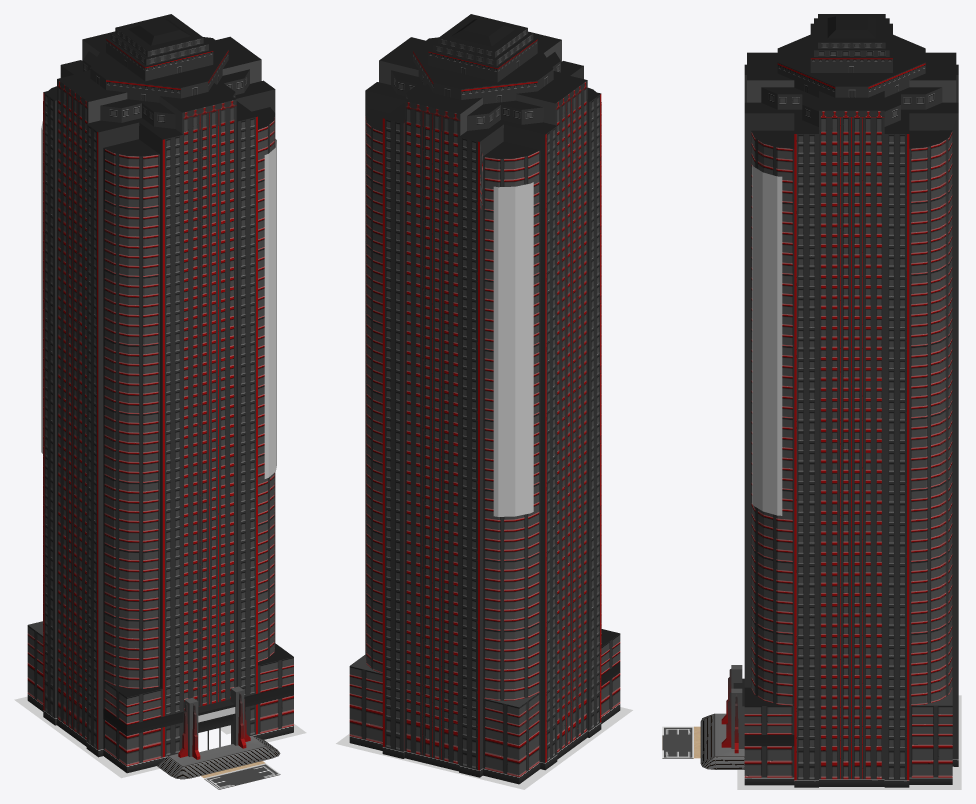
The model's file is BountyTower_2.fbx.
3 renders of one model, left to right at view 1: azimuth 30°, elevation 25°; view 2: azimuth 150°, elevation 25°; view 3: azimuth 270°, elevation 25°, orthographic. The views are drawn at different scales.
Parts seen in each view (by area): view 1: BountyTower, NameTower, Skyscraper_BG, _T_Park_TurnBG_01.001; view 2: BountyTower, NameTower, Skyscraper_BG; view 3: BountyTower, NameTower, Skyscraper_BG, _T_Park_TurnBG_01.001.
Boxes of the visible parts, x1=… form: BountyTower: x1=27, y1=14, x2=293, y2=779; NameTower: x1=41, y1=121, x2=276, y2=722; Skyscraper_BG: x1=14, y1=696, x2=306, y2=778; _T_Park_TurnBG_01.001: x1=201, y1=761, x2=280, y2=789; BountyTower: x1=349, y1=14, x2=620, y2=784; NameTower: x1=493, y1=182, x2=533, y2=516; Skyscraper_BG: x1=336, y1=707, x2=632, y2=789; BountyTower: x1=700, y1=14, x2=958, y2=787; NameTower: x1=752, y1=165, x2=782, y2=515; Skyscraper_BG: x1=737, y1=695, x2=961, y2=789; _T_Park_TurnBG_01.001: x1=662, y1=726, x2=700, y2=758.
Bounding box in the file's own units: 6000 × 21262 × 8000.
